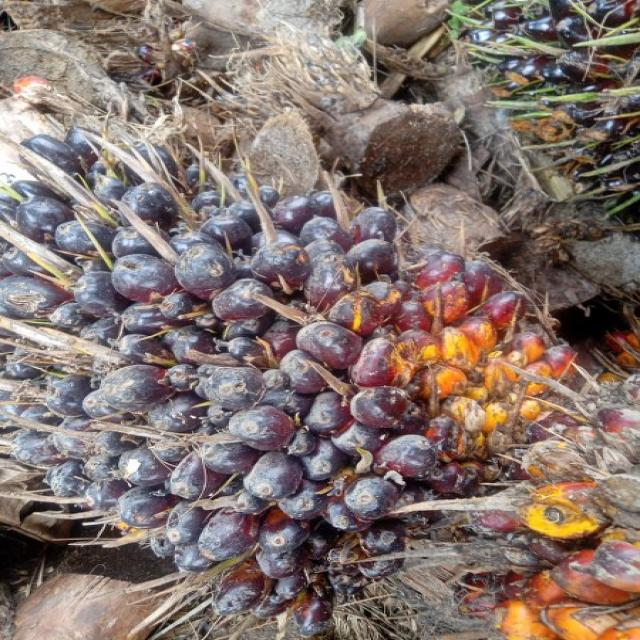fraksi 00: (0, 124, 615, 615)
